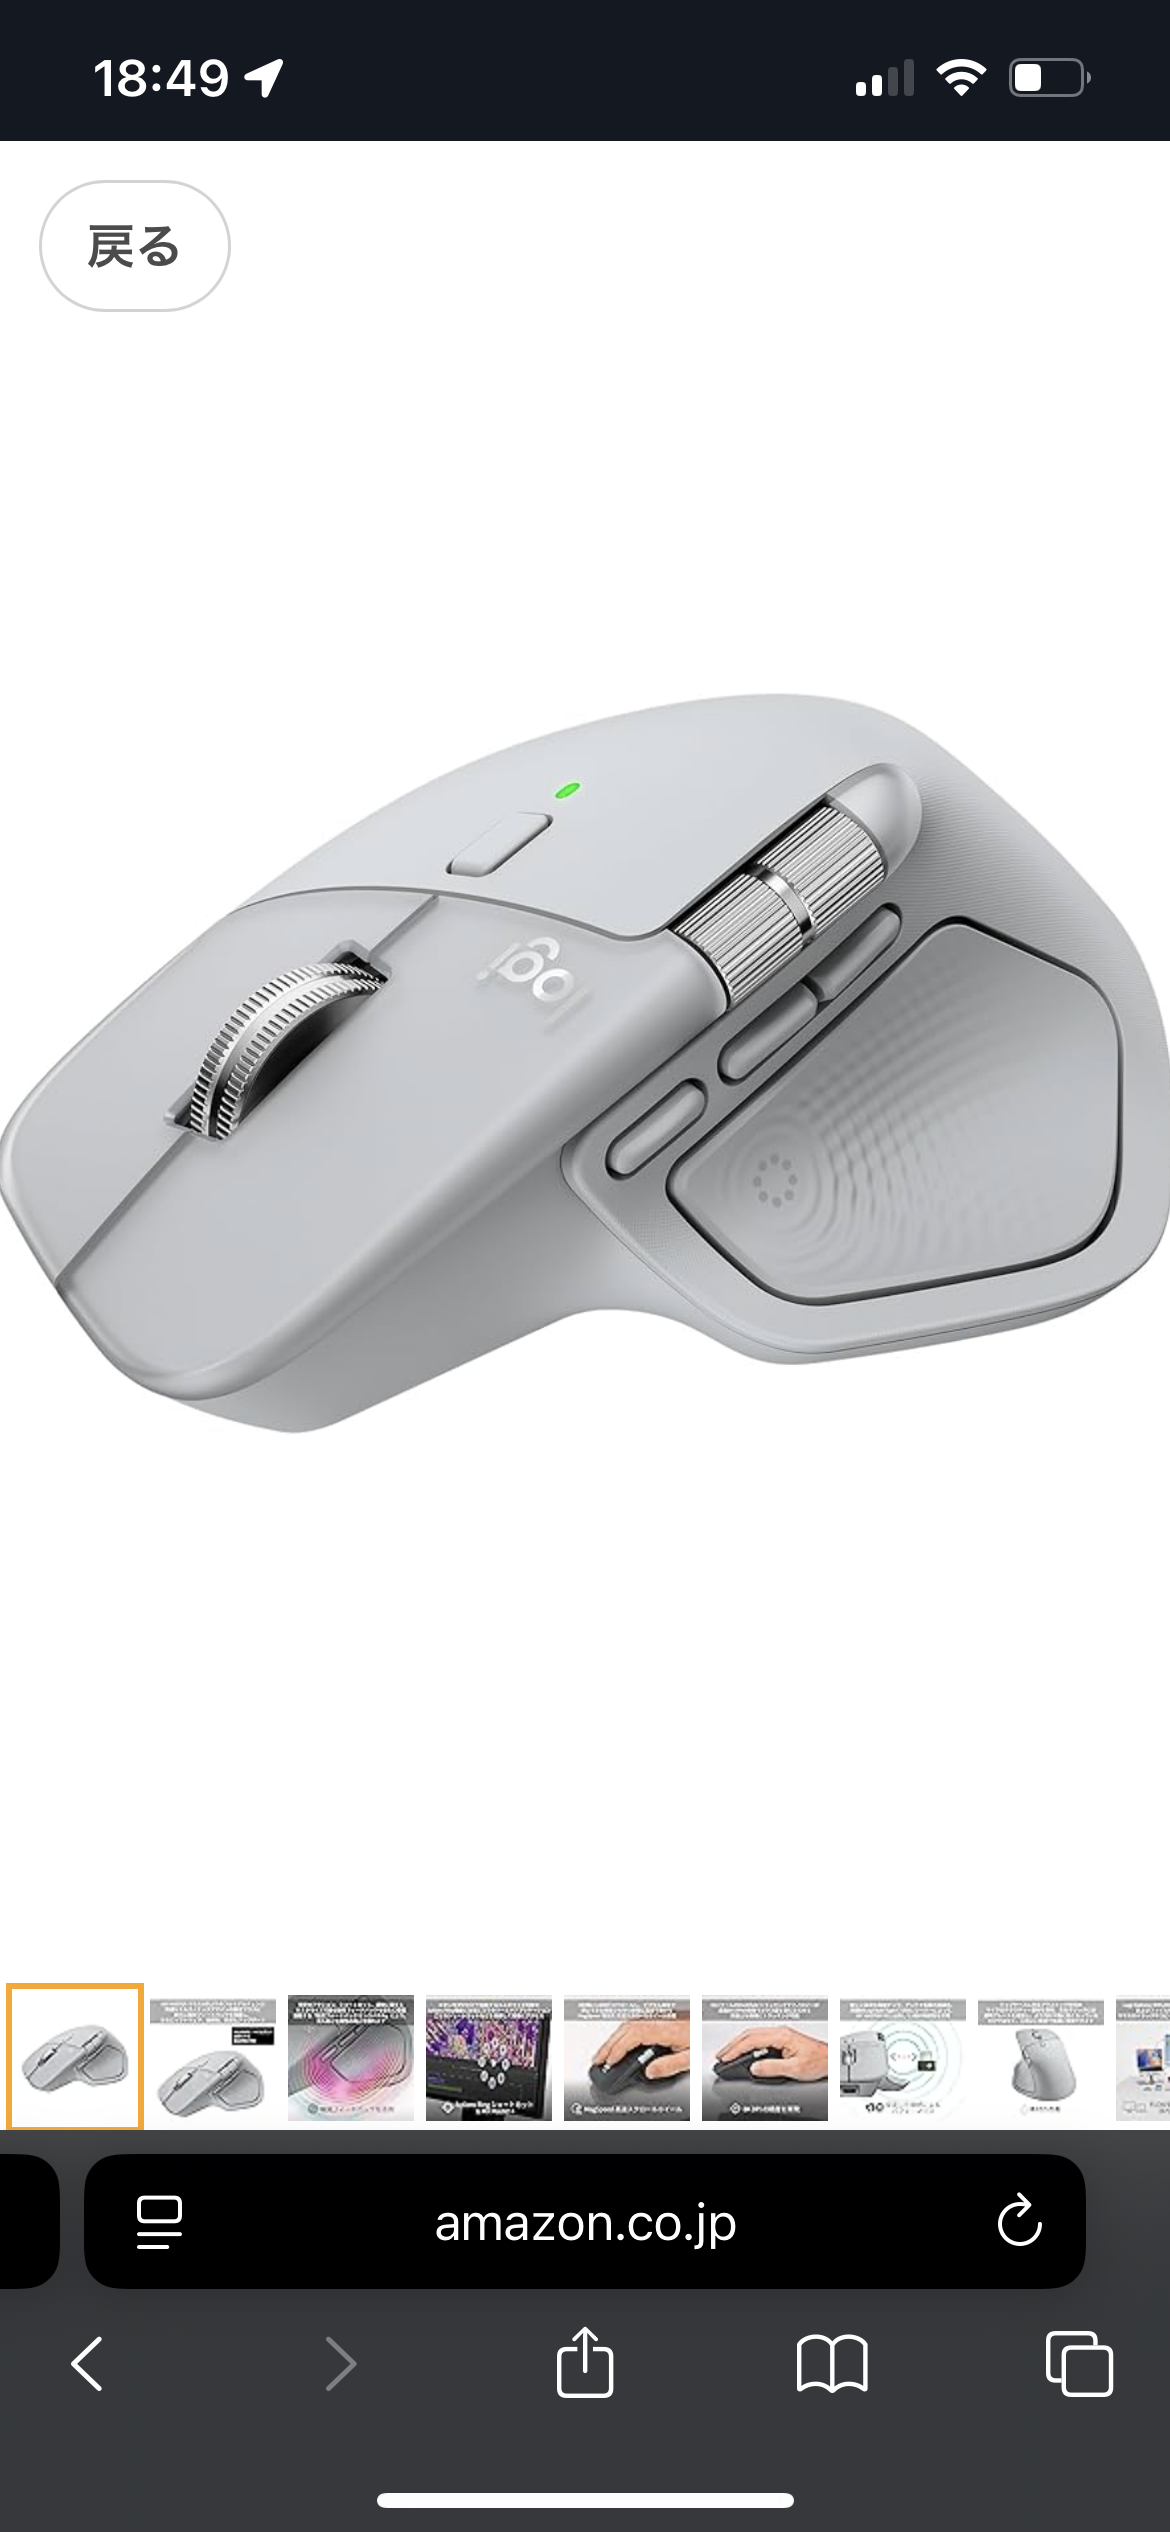mouse: (494, 667, 678, 1426)
